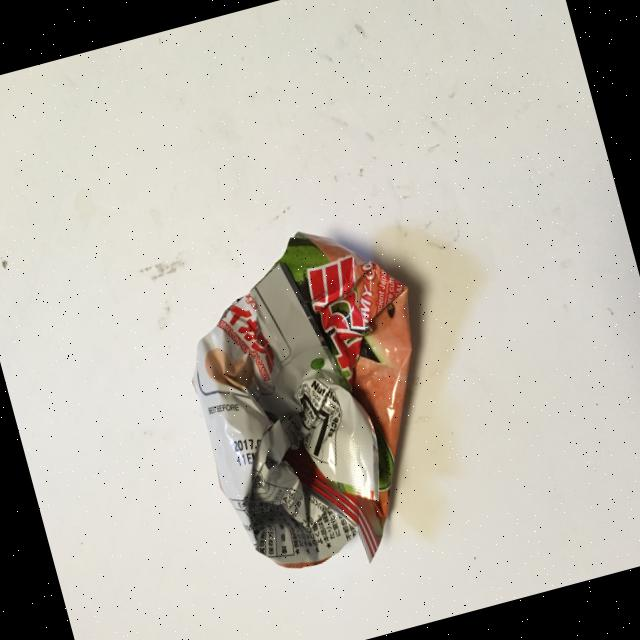plastic: (160, 206, 474, 594)
